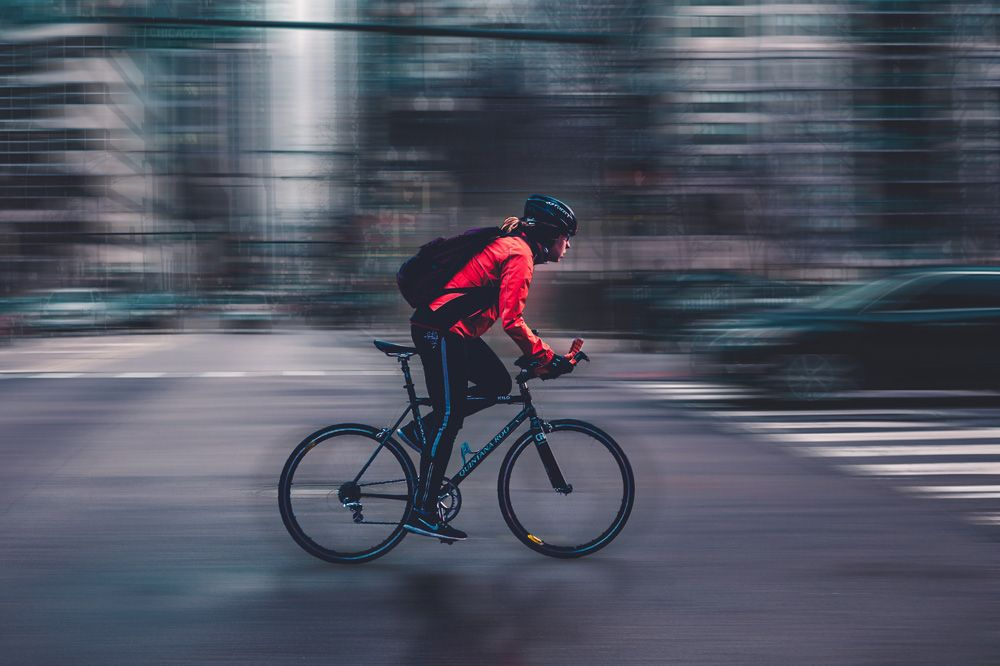commuter: (276, 195, 636, 561)
